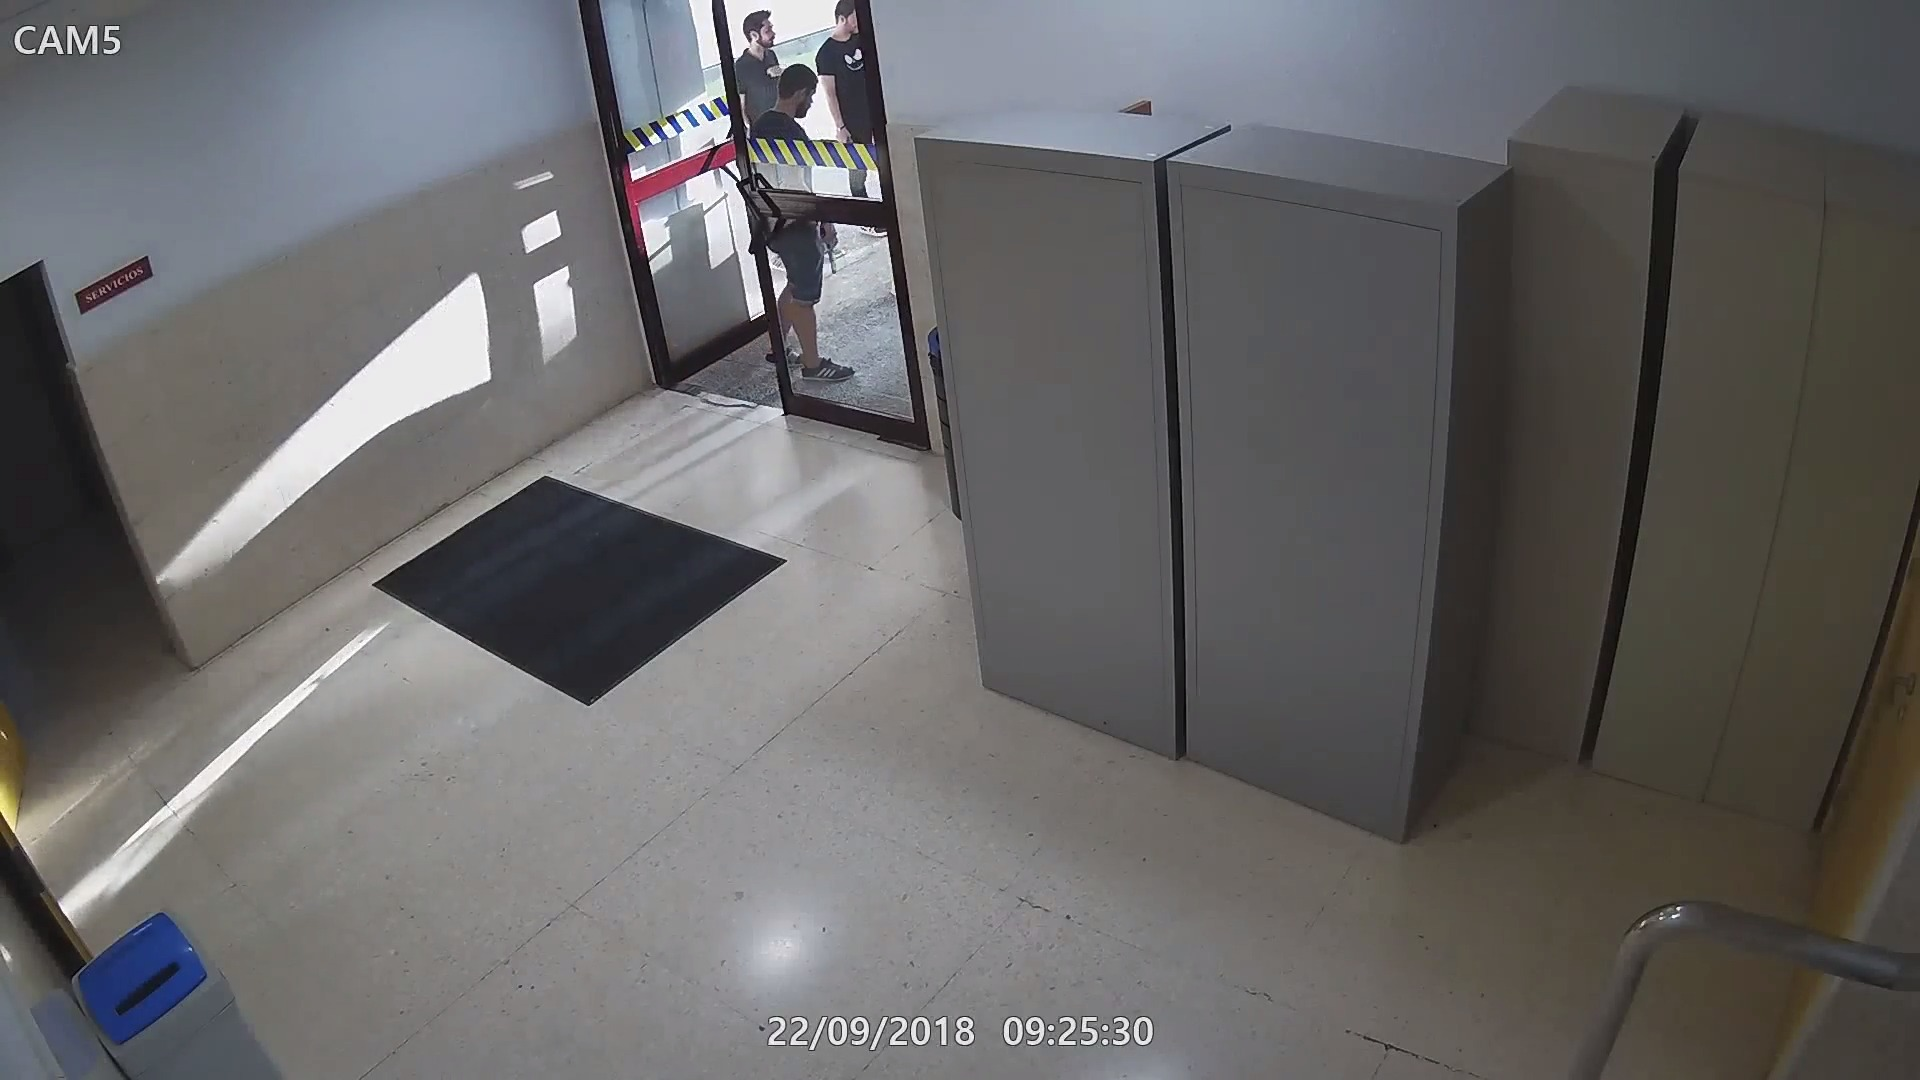Handgun: (814, 224, 847, 274)
